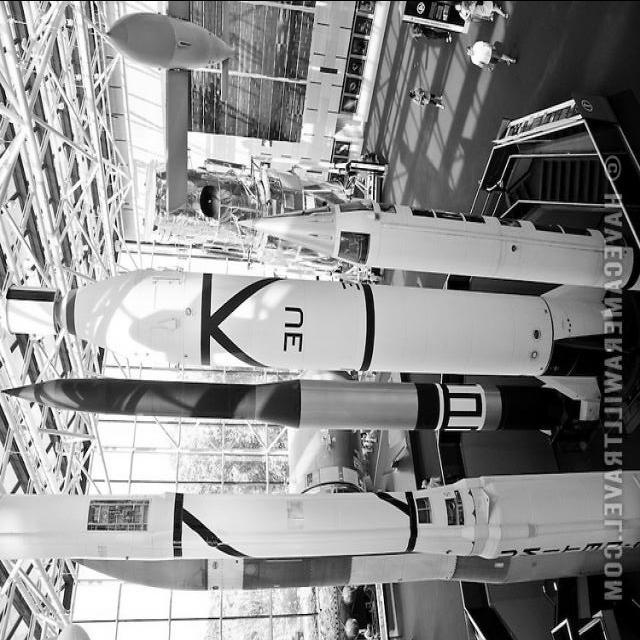missile: (0, 465, 640, 562), (0, 368, 602, 450), (229, 196, 635, 302)
